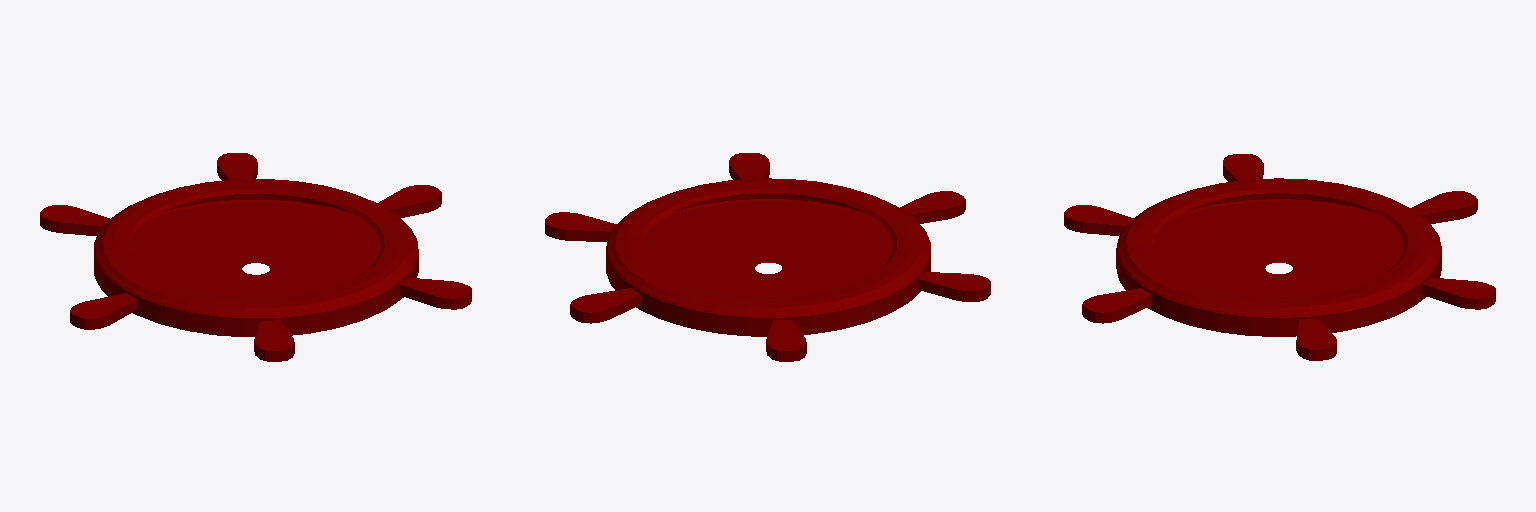
The model's file is meja2-4.obj.
3 views of the same model, side by side, from view 1: azimuth 30°, elevation 25°; view 2: azimuth 150°, elevation 25°; view 3: azimuth 270°, elevation 25° (orthographic).
Visible parts, largest first — view 1: Cube.034_Cube.375_Cube.034_Cube.001; view 2: Cube.034_Cube.375_Cube.034_Cube.001; view 3: Cube.034_Cube.375_Cube.034_Cube.001.
Part boxes in pixels (bbox=[...]): Cube.034_Cube.375_Cube.034_Cube.001: bbox=[40, 153, 471, 361]; Cube.034_Cube.375_Cube.034_Cube.001: bbox=[545, 153, 990, 361]; Cube.034_Cube.375_Cube.034_Cube.001: bbox=[1064, 154, 1495, 360].
Size of the model in its own units: 5.53 by 0.3525 by 5.15.